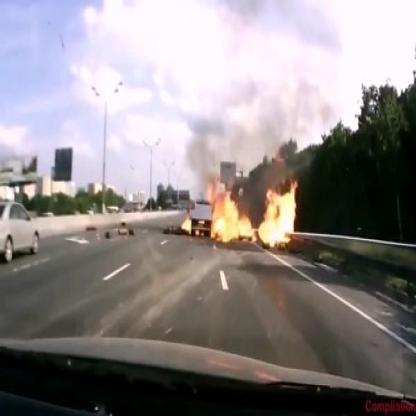fire: (208, 174, 300, 249), (180, 212, 192, 232)
